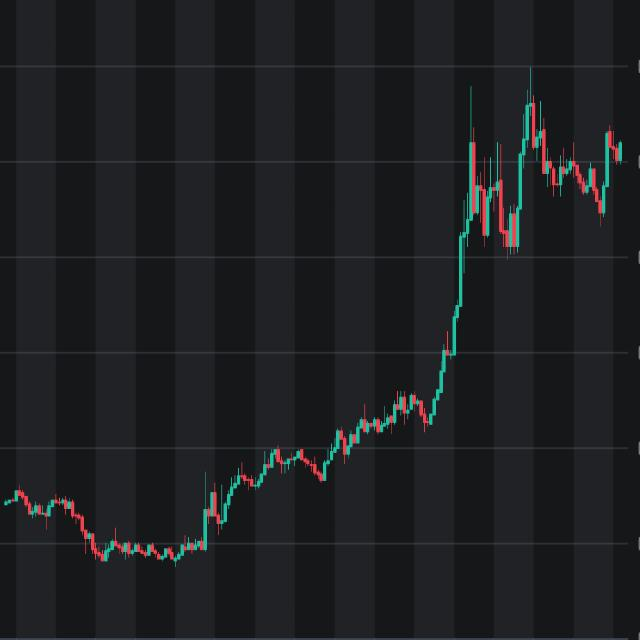Resistance-breakout: (354, 114, 474, 453)
